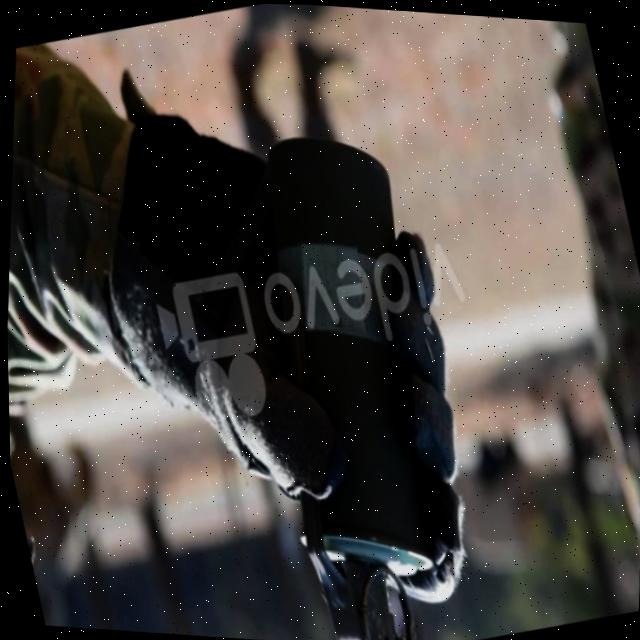grenade: (196, 108, 512, 640)
